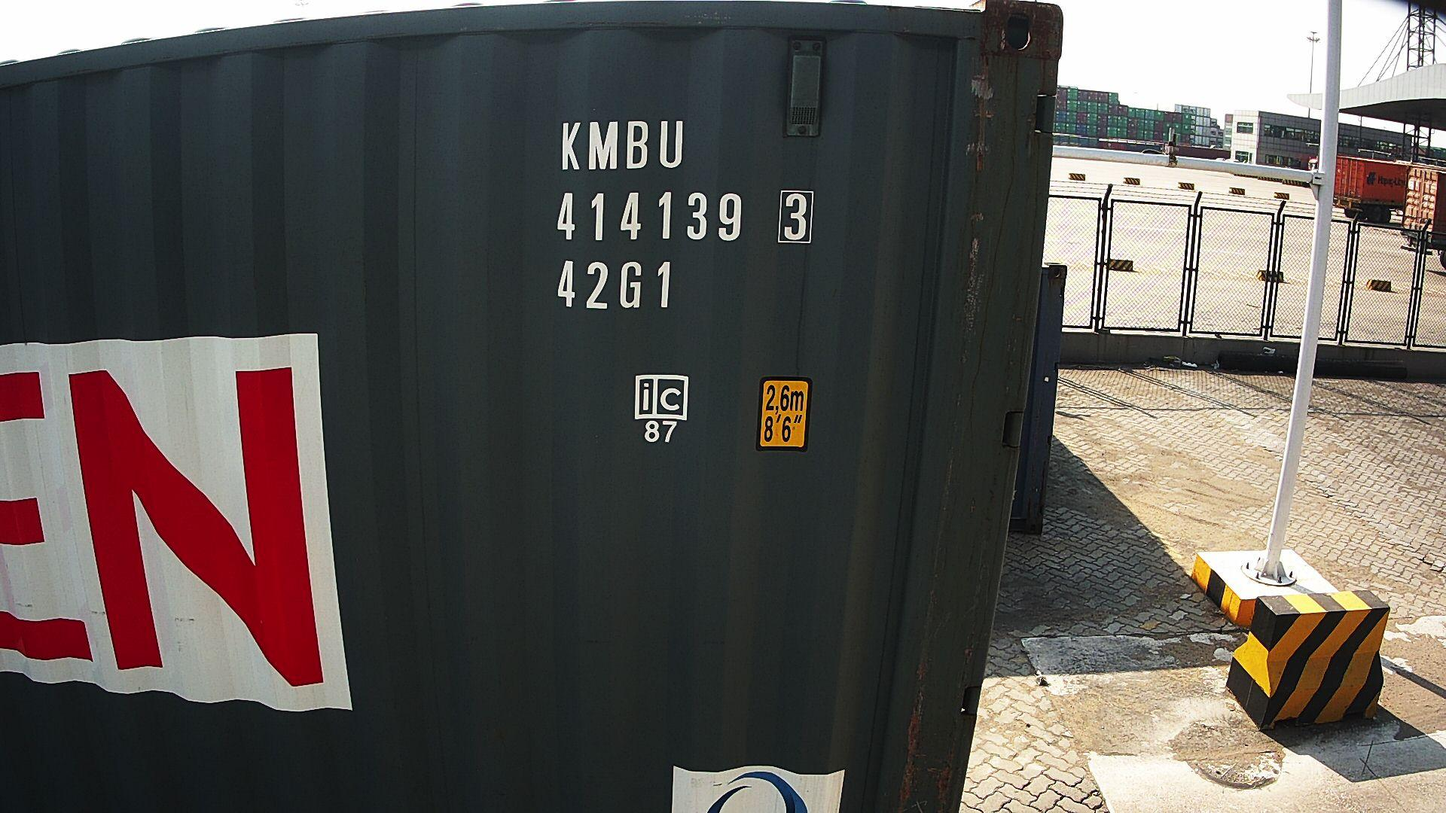container-numbers: (553, 187, 818, 251), (557, 116, 690, 175), (553, 257, 678, 314)
